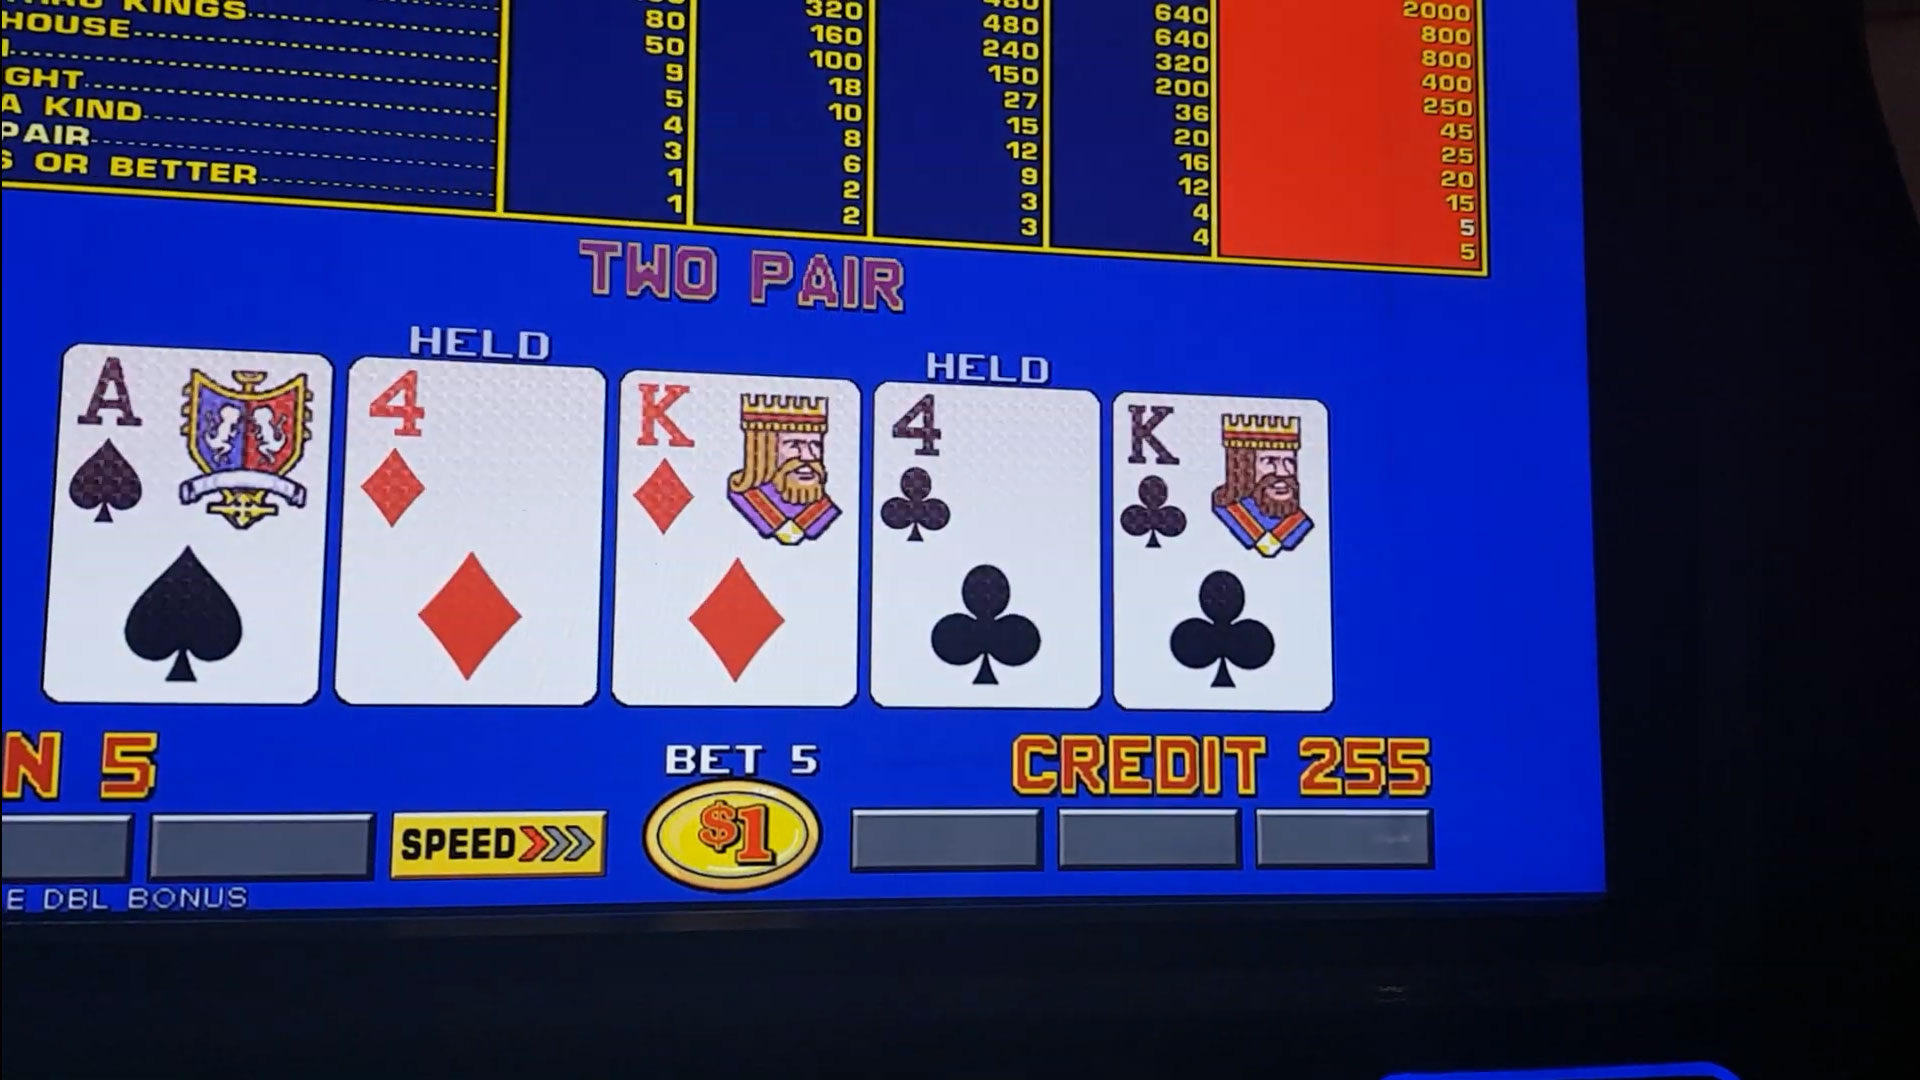C4: (880, 390, 1093, 551)
CK: (1121, 393, 1323, 559)
D4: (349, 372, 597, 549)
DK: (632, 378, 855, 543)
SA: (69, 356, 324, 537)
